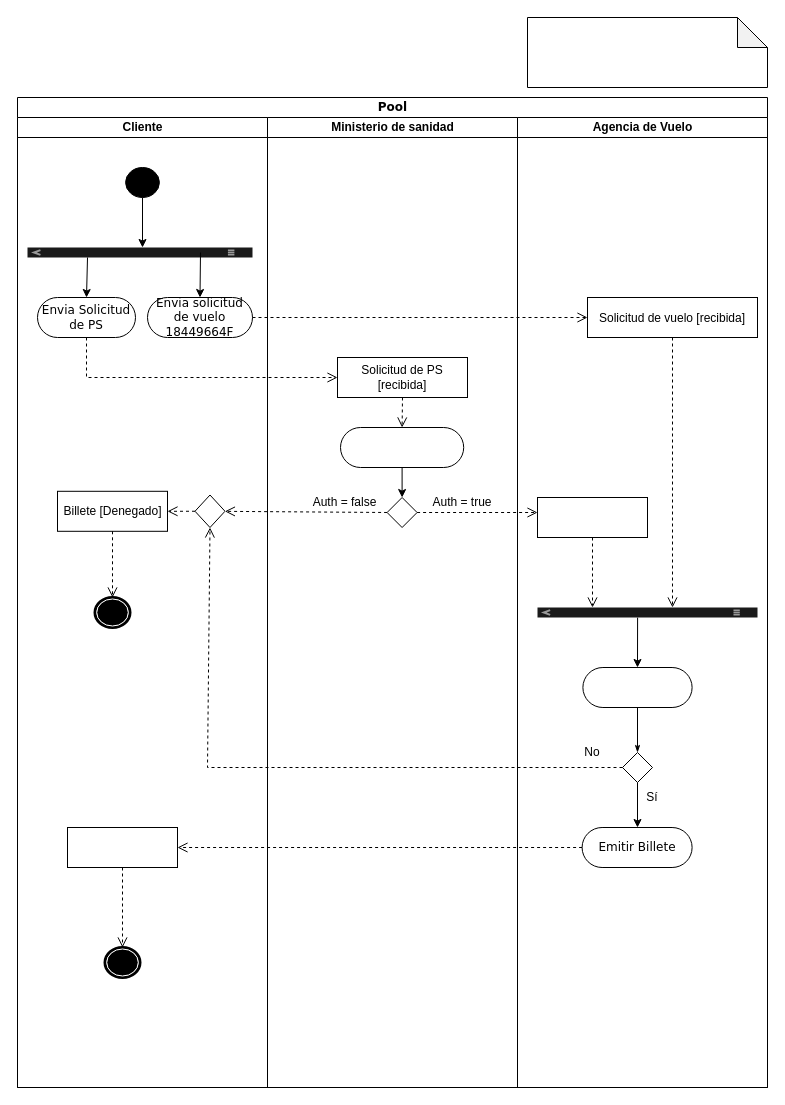
Some shapes in this 785 by 1105 pixel diagram are drawn without their labels. Here are the shapes that lost their labels. From the top down, the centre of each, then its label:
pixel 647 52: VOLAR EN PANDEMIA ALEJANDRO SORIANO RUEDA 18449664F 23/04/22
pixel 402 447: Comprobar viabilidad
pixel 592 517: Vuelo [autorizado]
pixel 637 687: Comprobar Disponibilidad
pixel 122 847: Billete [Aprobado]
